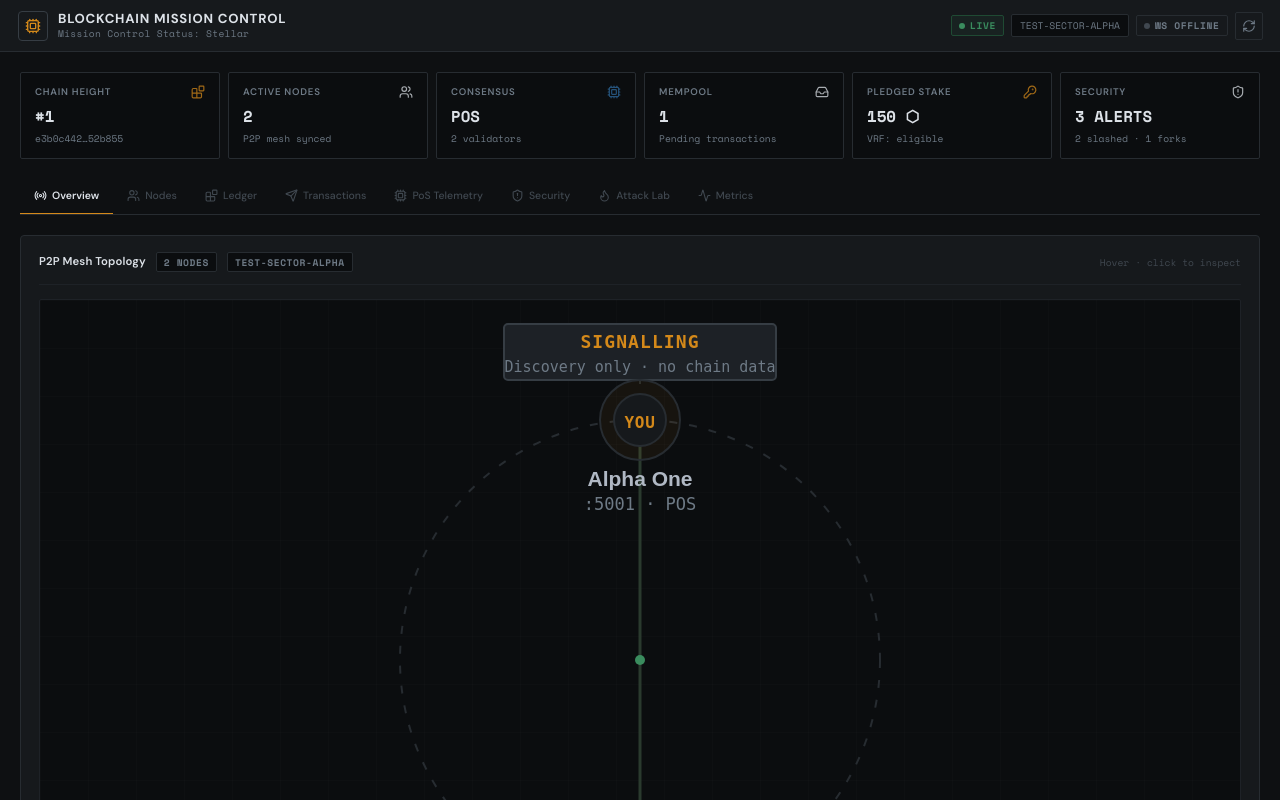
Test case: Mission Control Dashboard Unit & Integration Suite › 4. renders constellation nodes properly in table
Expected: the text "TEST-SECTOR-ALPHA" next to "LIVE" is shown, x1=1020 y1=18 x2=1120 y2=32
# Switch to nodes tab
Click the button "Nodes" at (152, 197), box x1=113 y1=179 x2=191 y2=215
(page scrolled)
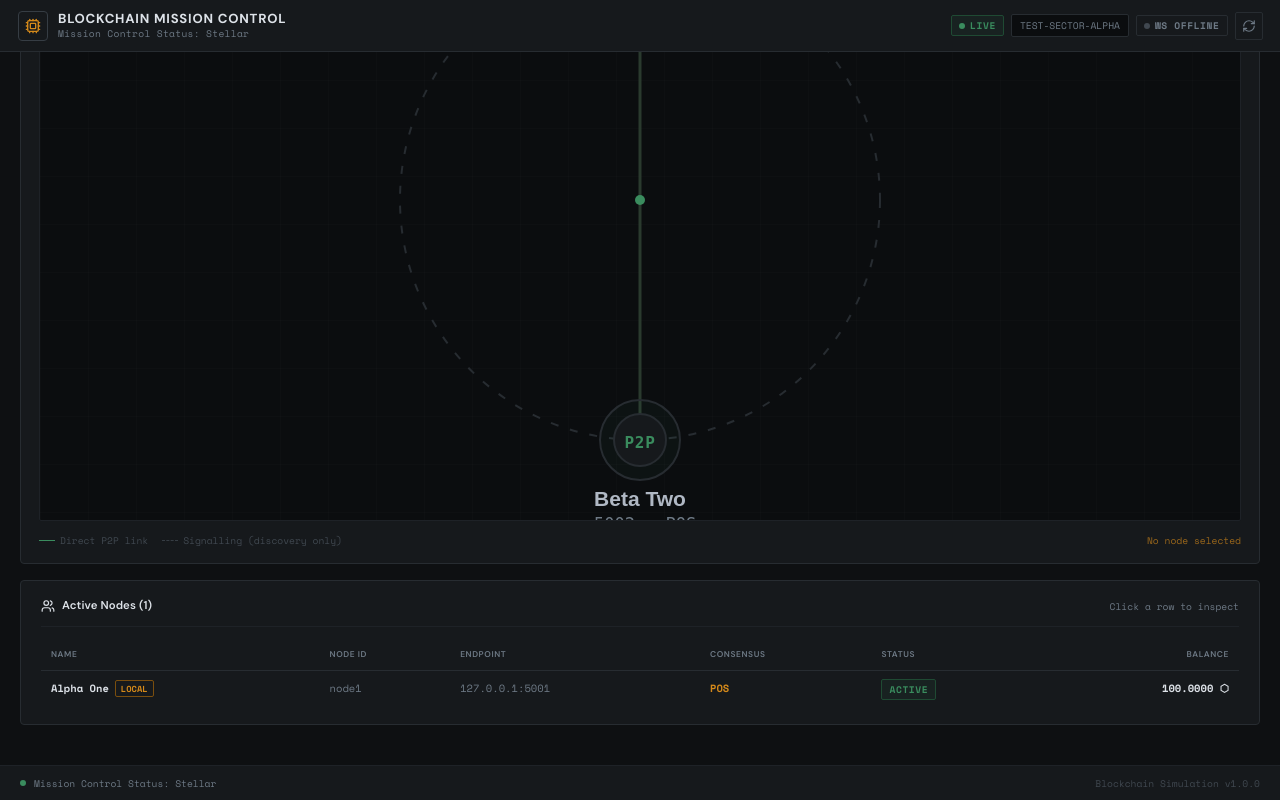
Expected: the text "node1" is shown, x1=320 y1=671 x2=450 y2=708
Expected: the text "127.0.0.1:5001" is shown, x1=450 y1=671 x2=700 y2=708
